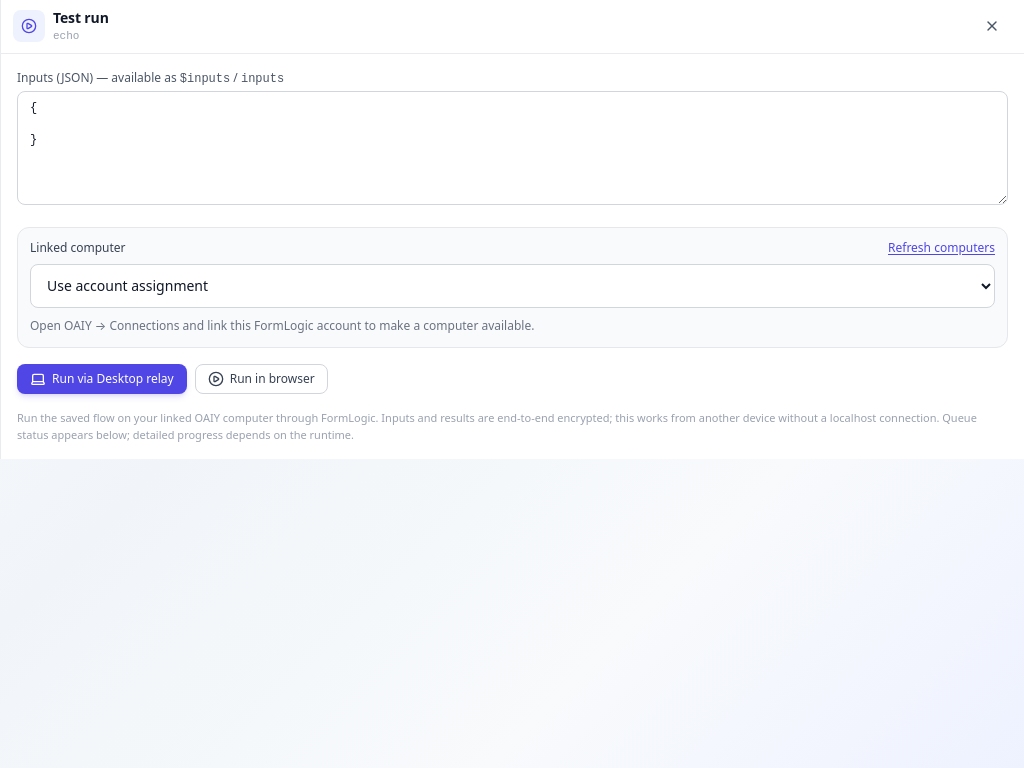
Scenario: TestRunDrawer — run dispatch per executionLocation › desktop: a typed relay refusal renders as a run error
The width and height of the screenshot is (1024, 768).
Click the button "Run via Desktop relay".
click(102, 379)  # box [17,364,187,394]
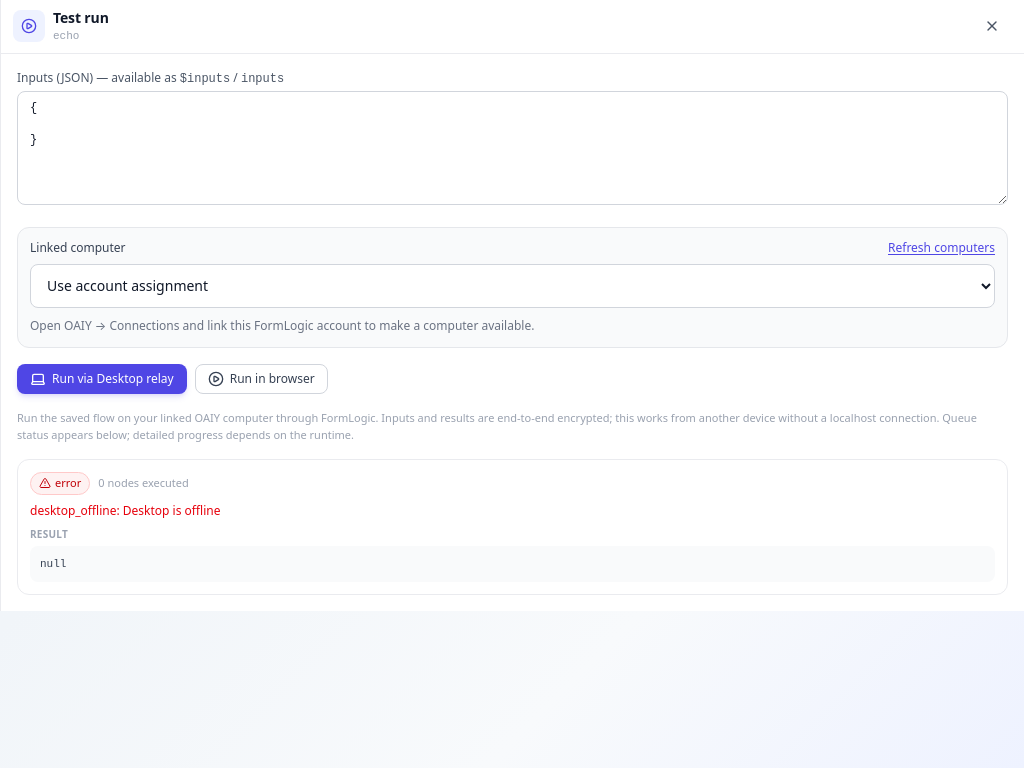
expect the text "desktop_offline: Desktop is offline" is shown: met, box [30,502,220,518]
